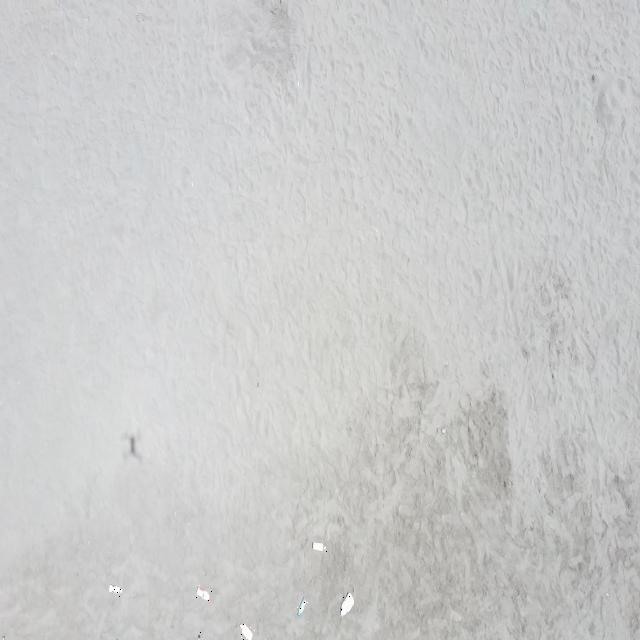Garbage: (340, 592, 352, 615), (240, 623, 252, 639), (296, 597, 306, 615), (196, 586, 208, 600), (108, 584, 121, 595), (312, 542, 326, 550)
